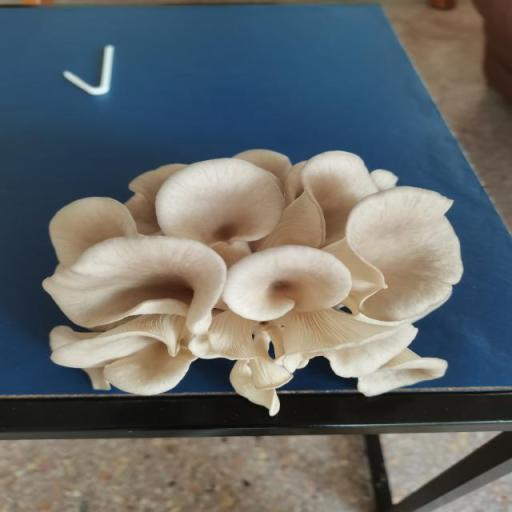White Oyster Mushroom: (37, 138, 470, 419)
